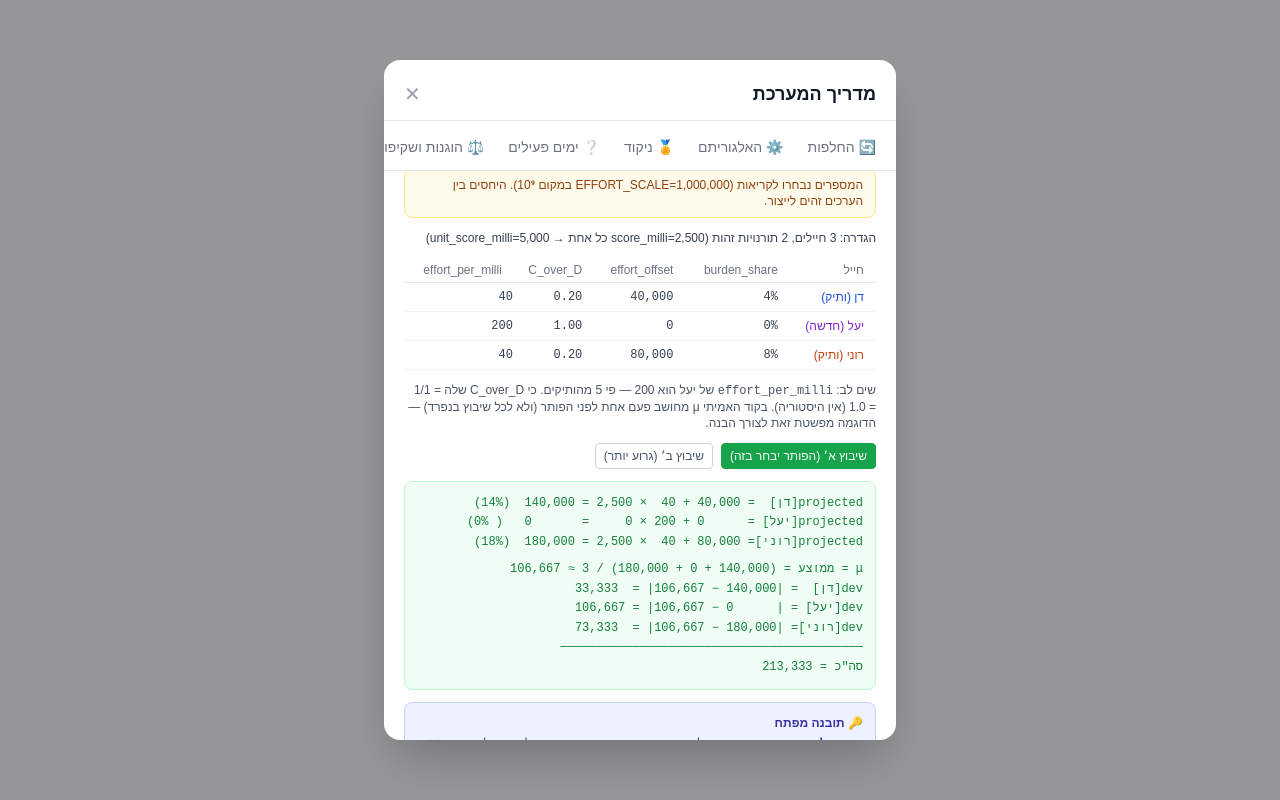
Deep Dive worked example toggles between assignment A and B instead of showing both at once
(page scrolled)
Expected: the button "שיבוץ א׳ (הפותר יבחר בזה)" is shown, [721,442,876,468]
Step 1. Click the button "שיבוץ ב׳ (גרוע יותר)" → {"x": 654, "y": 456}, box [595,442,713,468]
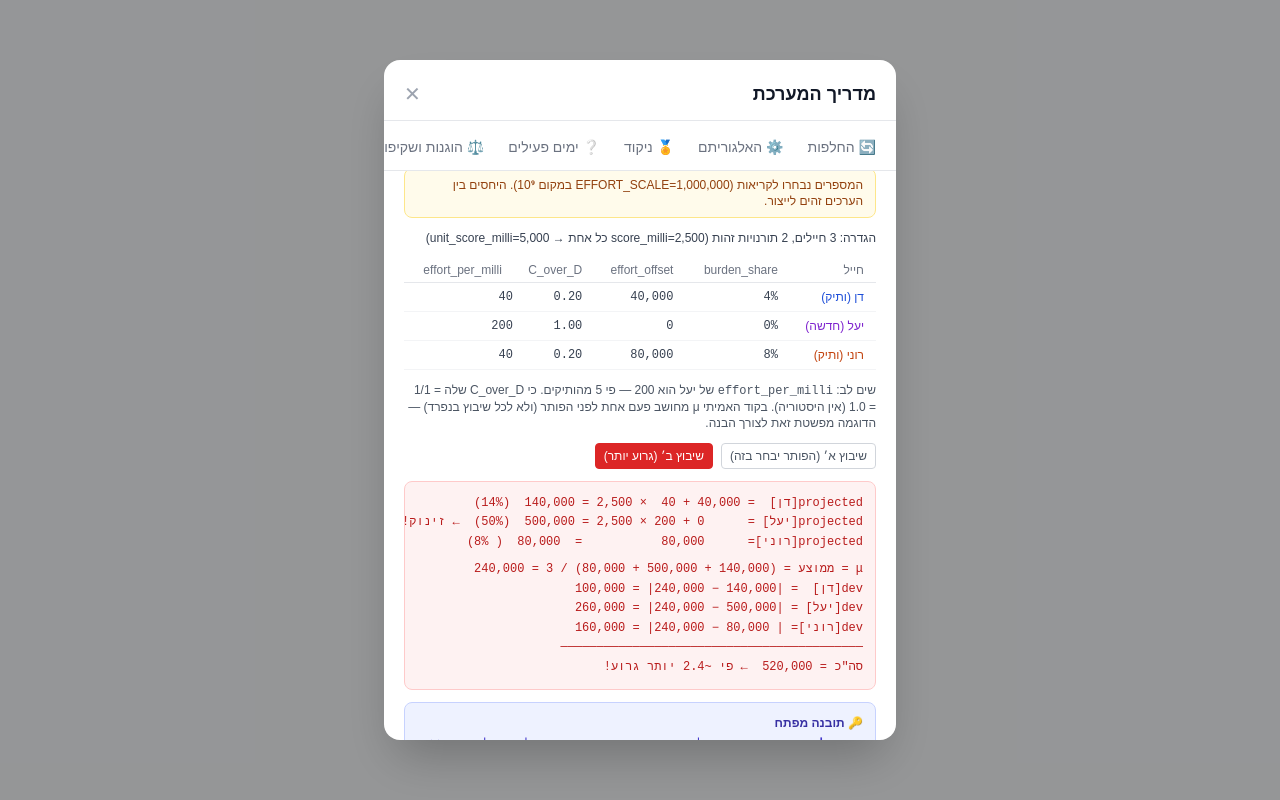
Expected: the text "סה\"כ = 520,000" is shown, [474,562,863,674]
Expected: the text "סה\"כ = 213,333" is gone
